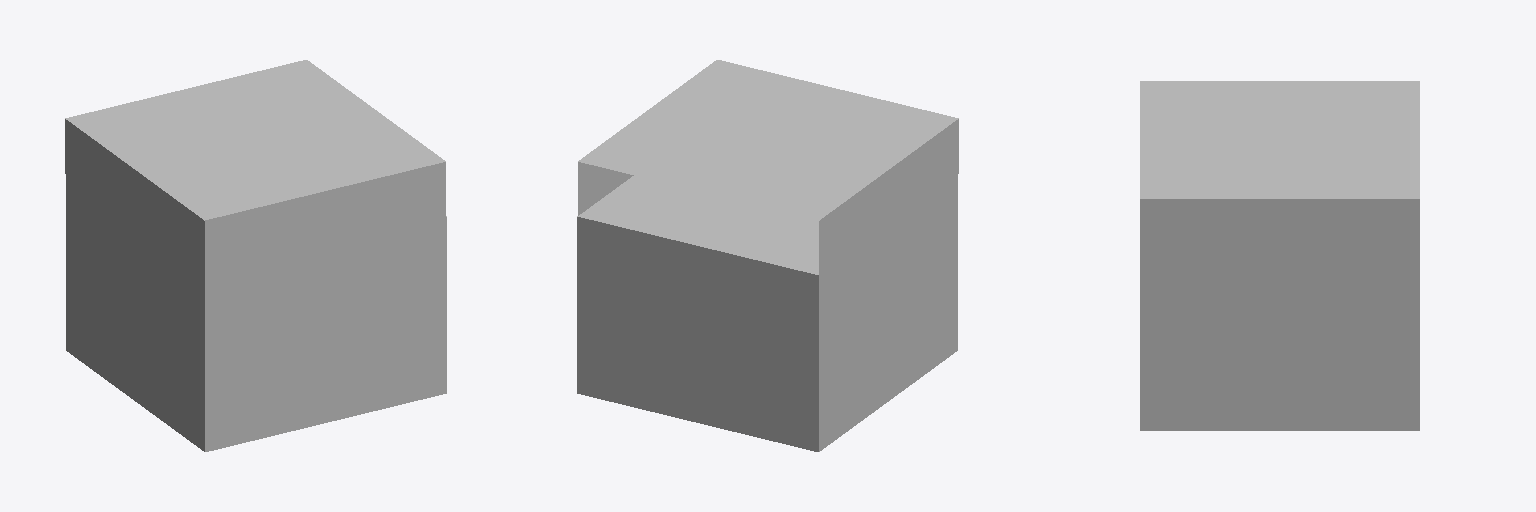
The model's file is water_three.d51f6bc5.obj.
3 renders of one model, left to right at view 1: azimuth 30°, elevation 25°; view 2: azimuth 150°, elevation 25°; view 3: azimuth 270°, elevation 25°, orthographic.
Visible parts, largest first — view 1: Water_three_Cube.012; view 2: Water_three_Cube.012; view 3: Water_three_Cube.012.
Part boxes in pixels (bbox=[...]): Water_three_Cube.012: bbox=[65, 60, 446, 451]; Water_three_Cube.012: bbox=[577, 60, 958, 451]; Water_three_Cube.012: bbox=[1140, 81, 1419, 430].
Bounding box in the file's own units: 0.5012 × 0.4586 × 0.5001.